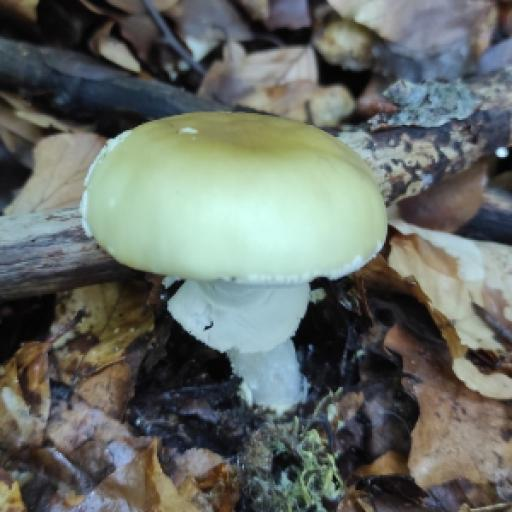mushroom: (51, 23, 452, 424)
